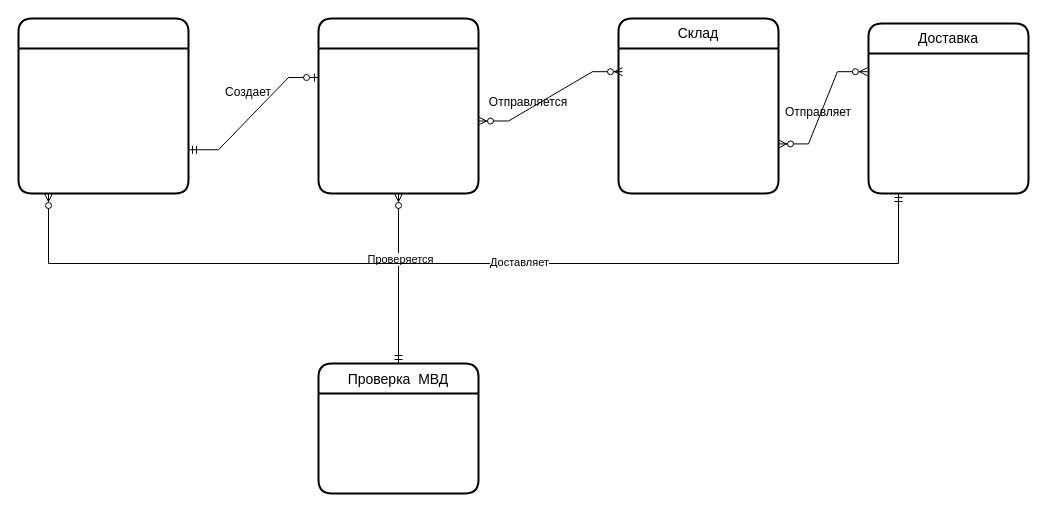
This 1046x511 diagram has some shape labels left out. The shapes that lost their labels are listed below. From the top down, each one's box as (x1, y1, x2, y2) in pixels, then its label:
(17, 17, 189, 194): Пользователь
(317, 17, 479, 194): Заявка
